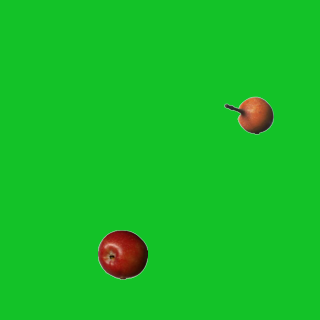Apple Braeburn: (97, 229, 147, 279)
Granadilla: (223, 90, 273, 140)
